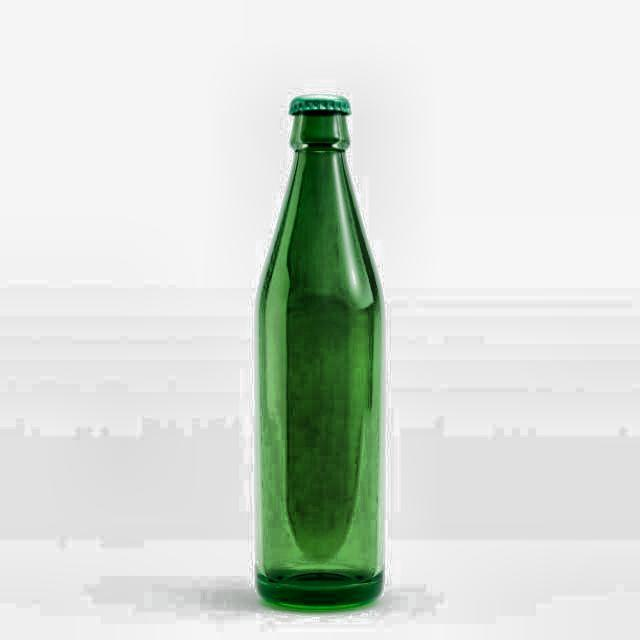glass: (254, 95, 387, 615)
